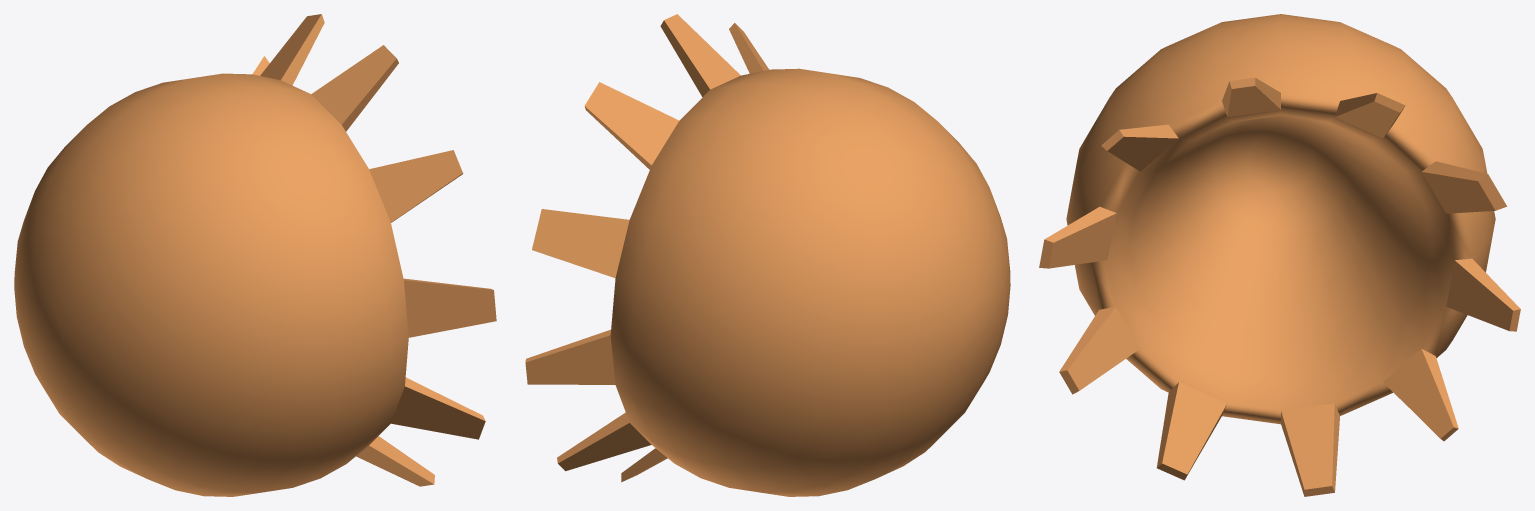
The model's file is hand.fbx.
3 views of the same model, side by side, from view 1: azimuth 30°, elevation 25°; view 2: azimuth 150°, elevation 25°; view 3: azimuth 270°, elevation 25° (orthographic). The views are drawn at different scales.
Visible parts, largest first — view 1: pSphere4; view 2: pSphere4; view 3: pSphere4.
Part boxes in pixels (x1,y1,x2,y2): pSphere4: [14, 14, 496, 496]; pSphere4: [525, 14, 1010, 496]; pSphere4: [1039, 14, 1520, 496].
Bounding box in the file's own units: 0.7662 × 0.9594 × 1.
